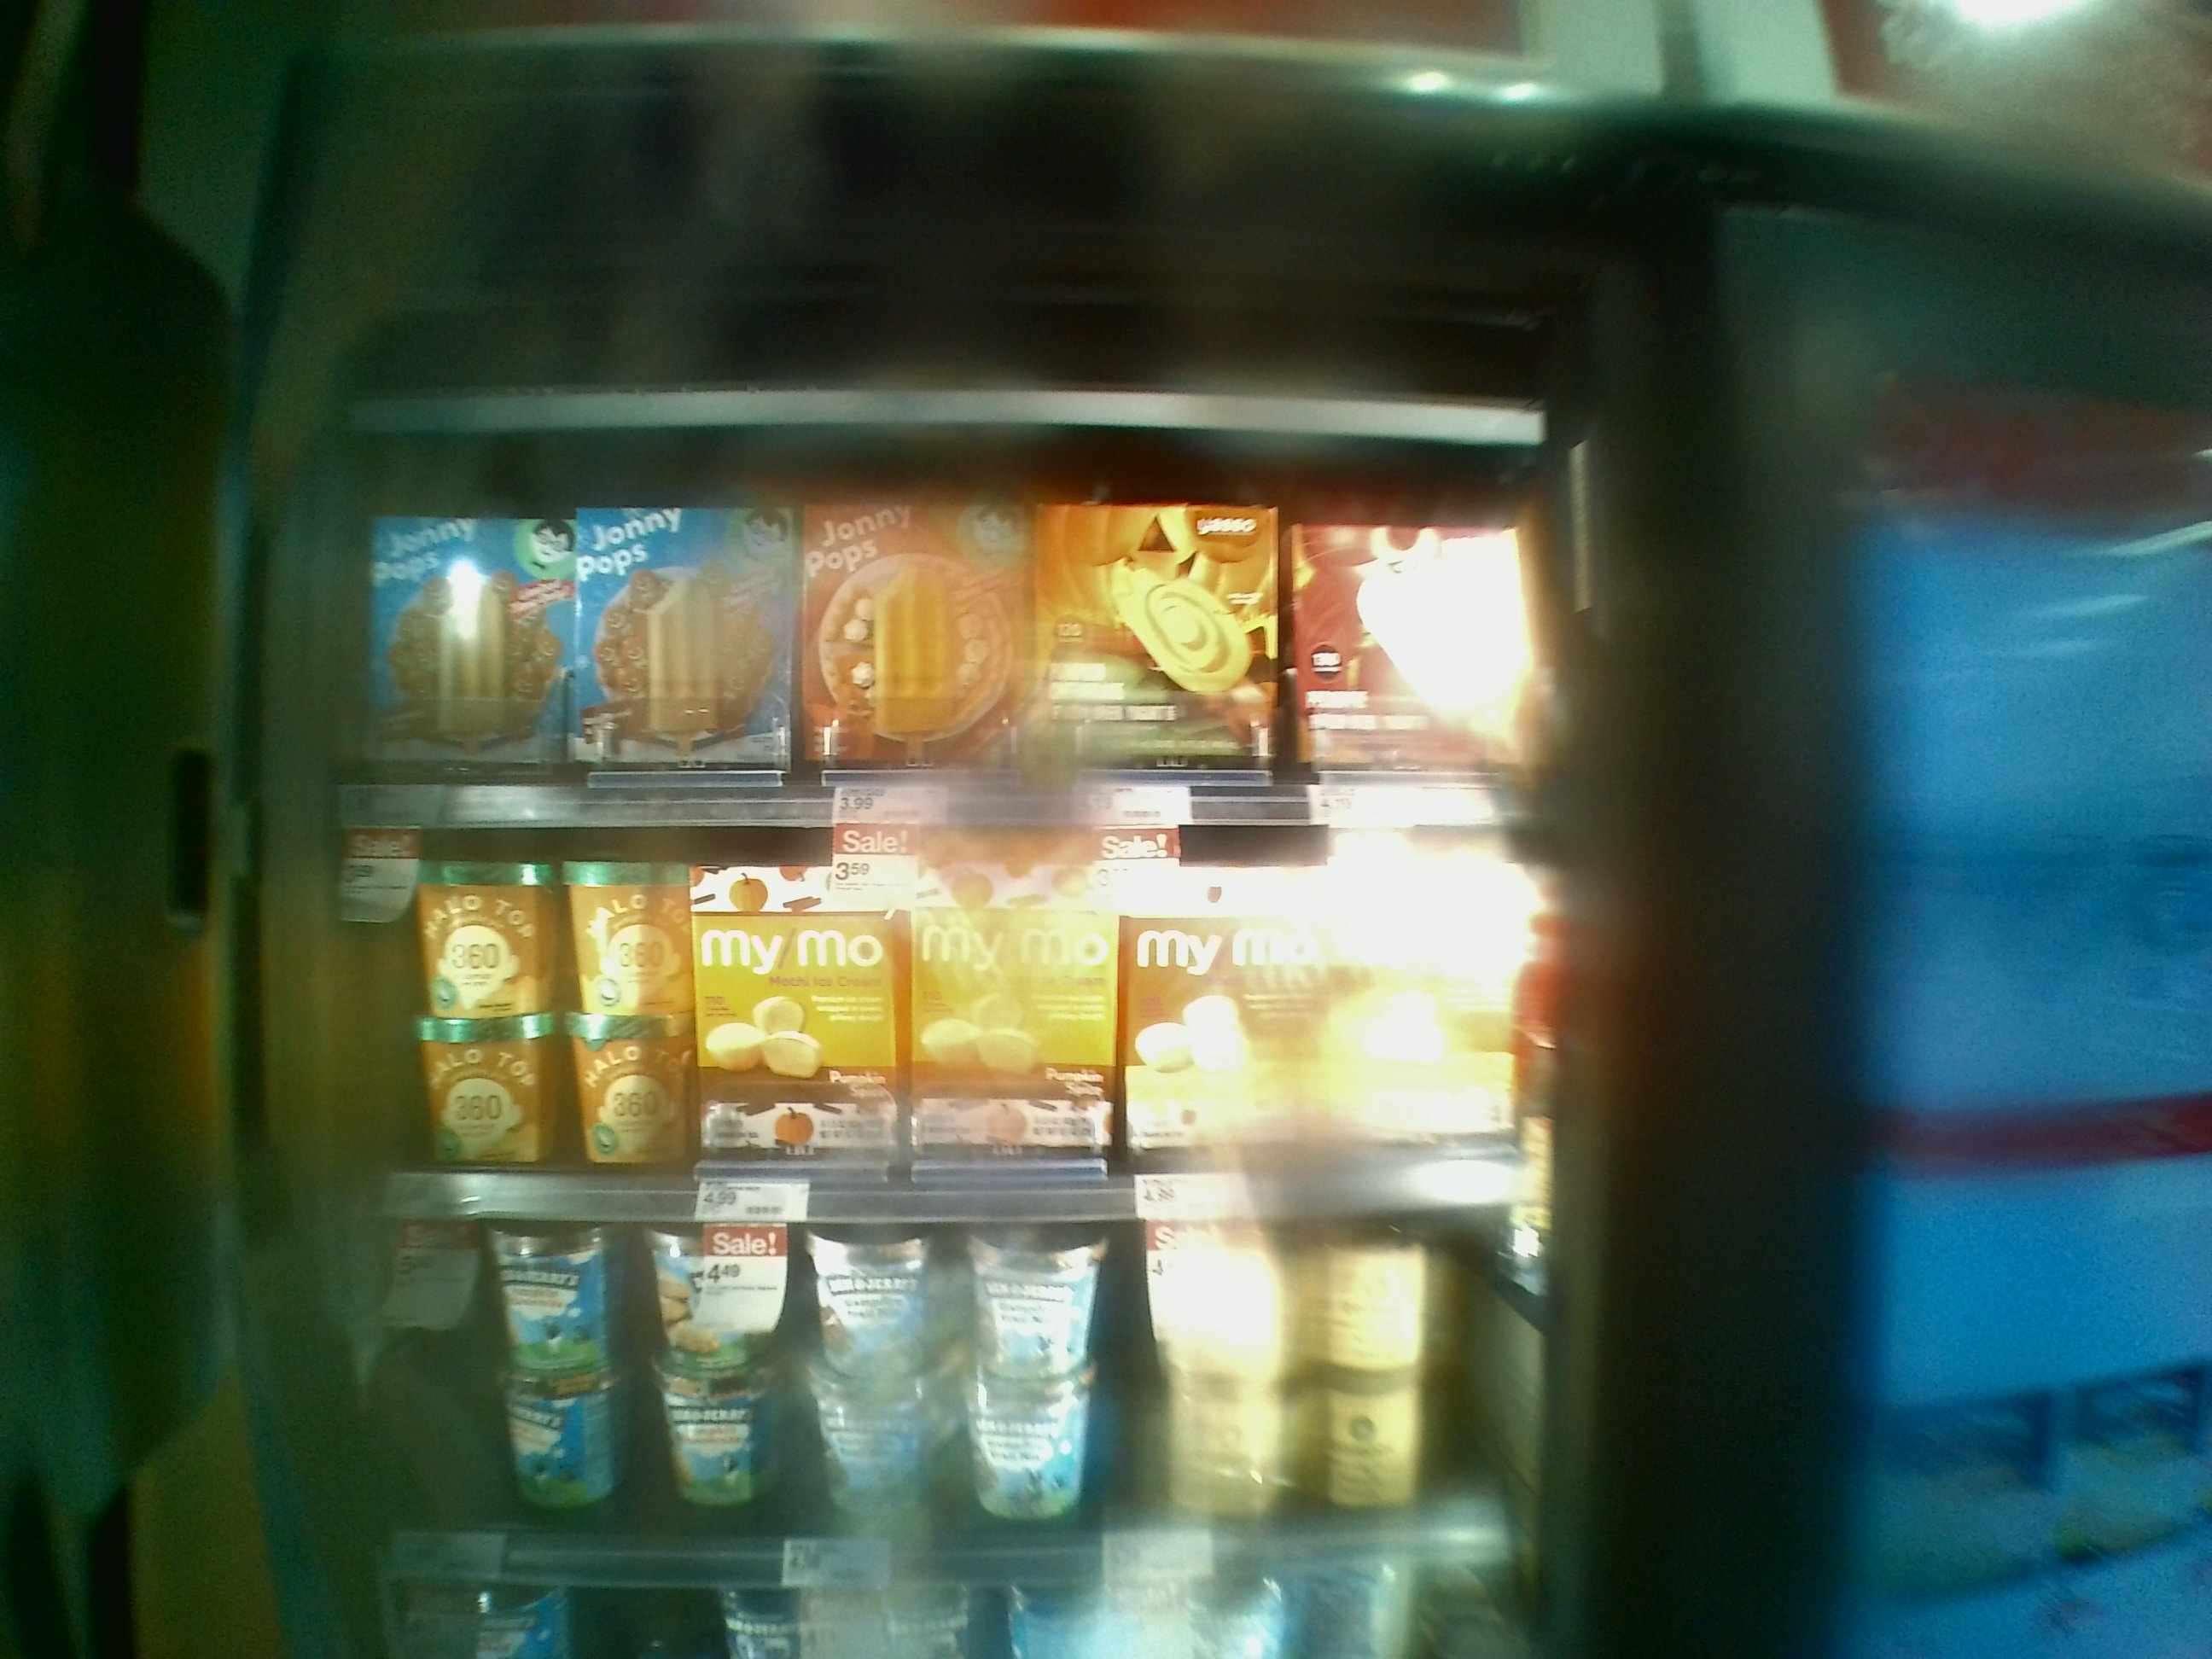shelf: (298, 798, 1559, 1213), (324, 448, 1555, 821), (307, 1201, 1534, 1572)
